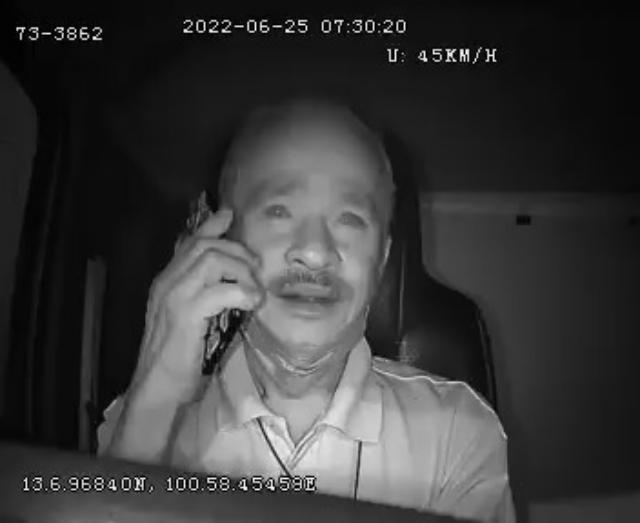PhoneUse: (172, 185, 250, 376)
SafeDriving: (324, 194, 374, 243), (256, 188, 301, 228)
